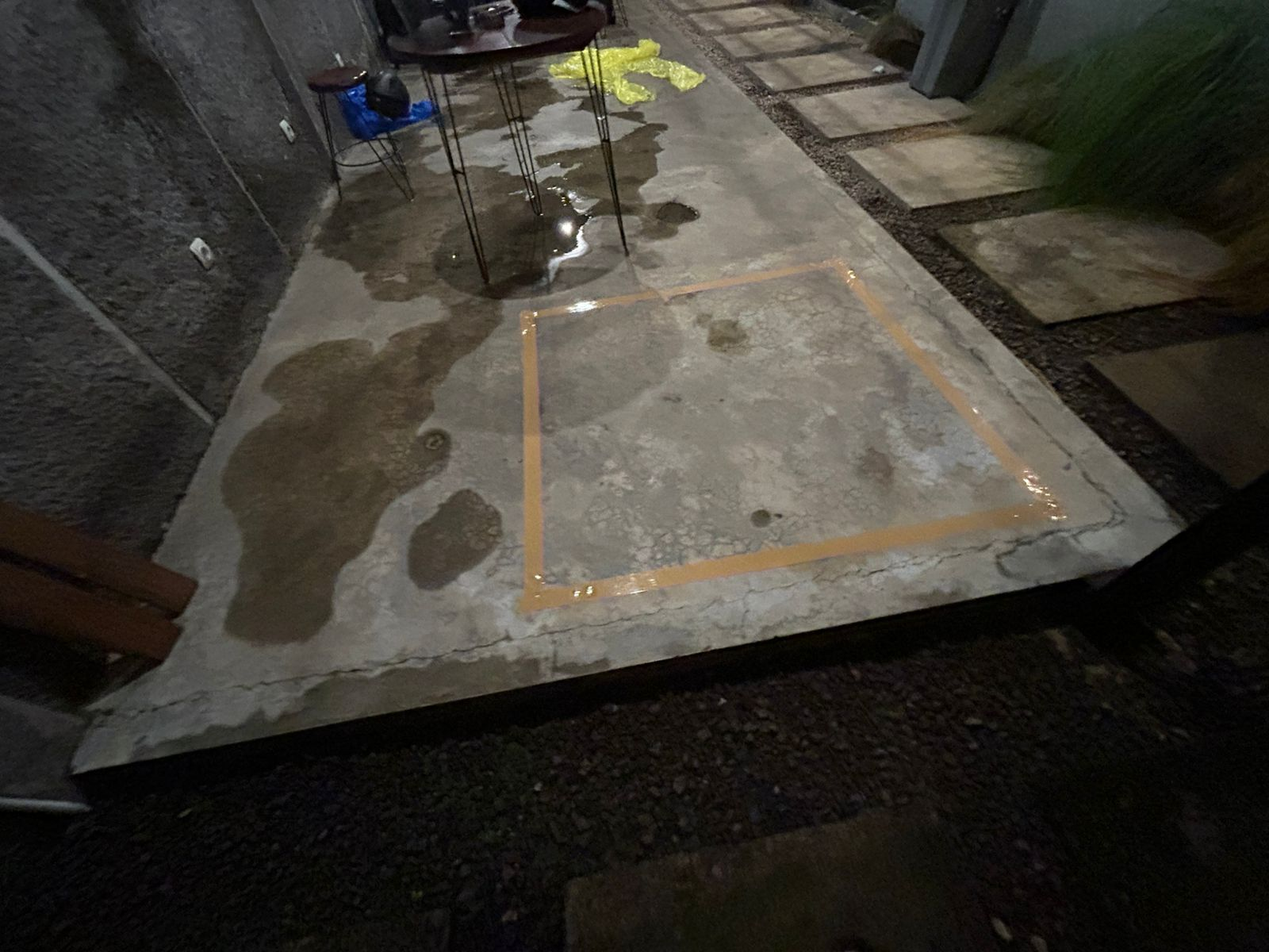floor marking: (519, 259, 1064, 610)
